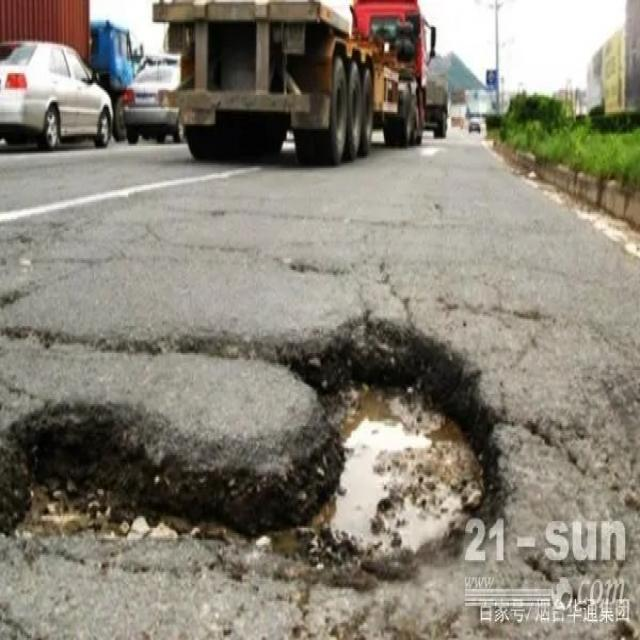Pothole: (1, 306, 506, 589)
